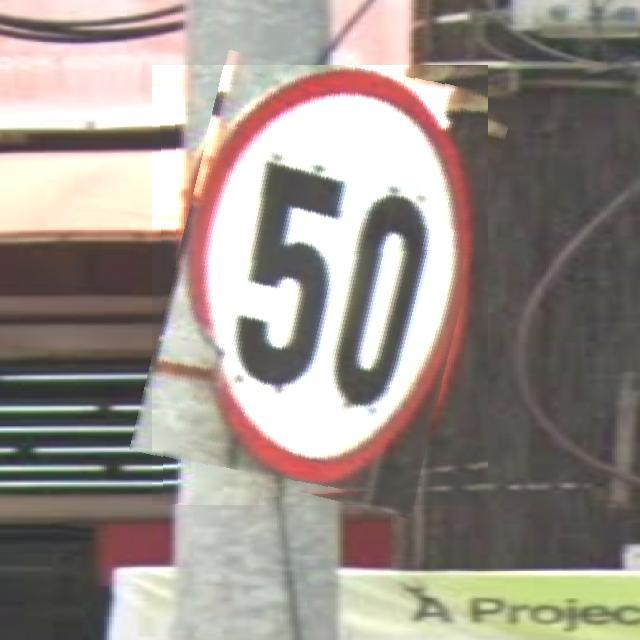50 kph: (152, 65, 488, 505)
